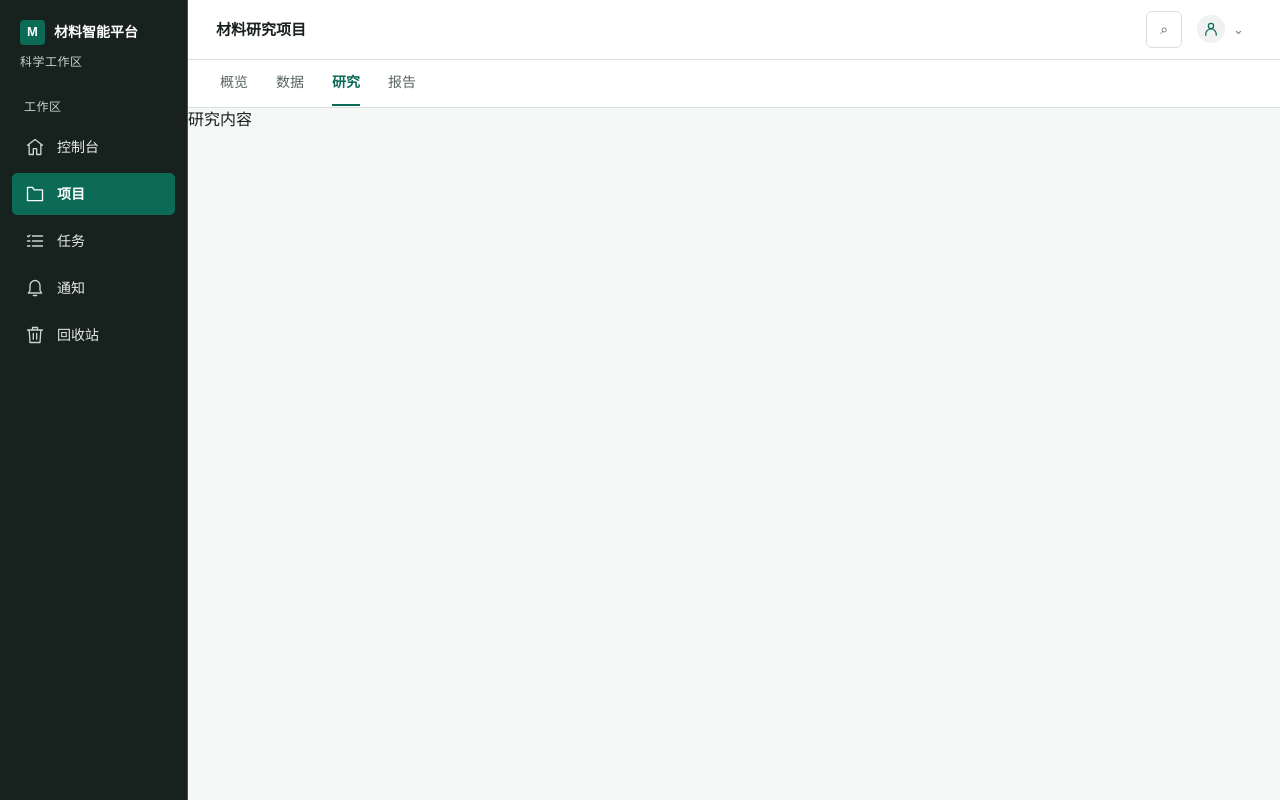
searches across authorized scientific work after the query changes
Click the button named "搜索科学工作": (1164, 29) [1146, 11, 1182, 48]
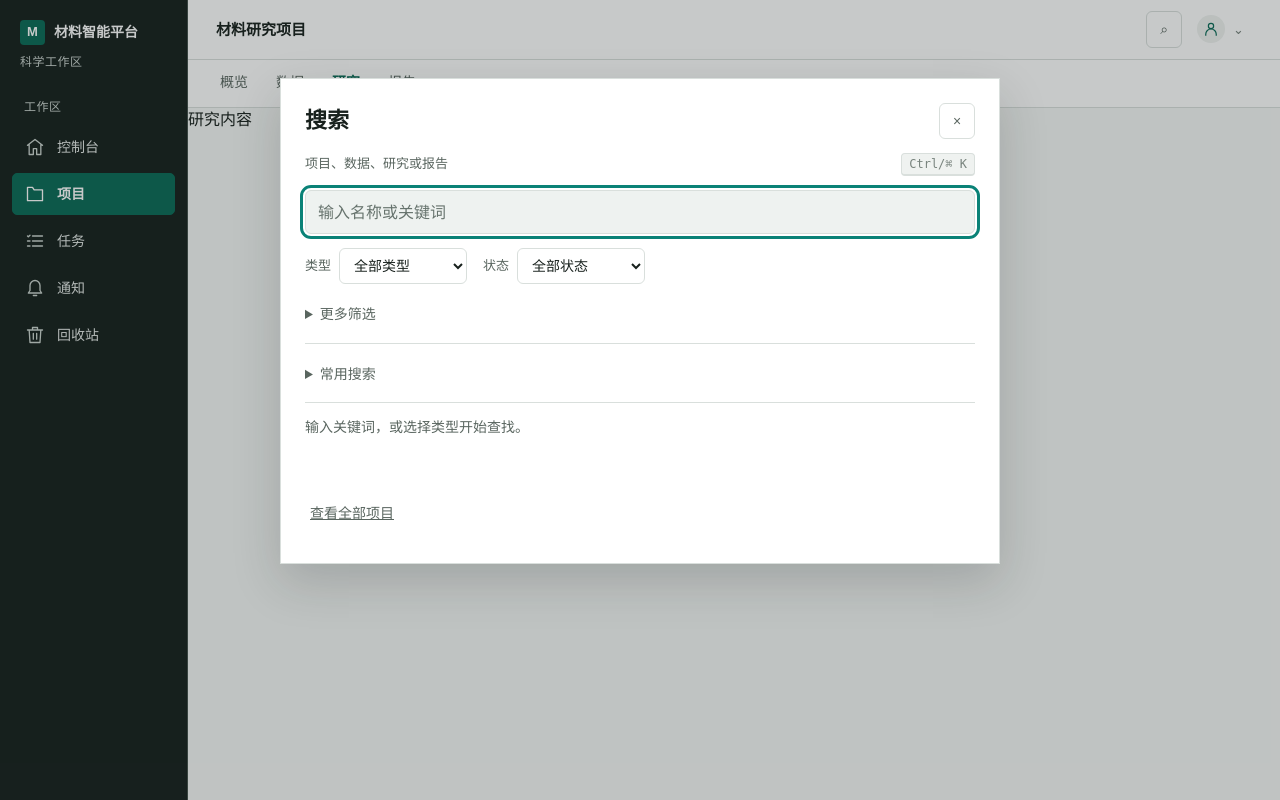
In the field labelled "项目、数据、研究或报告": (640, 212) [305, 190, 975, 234], type "band"
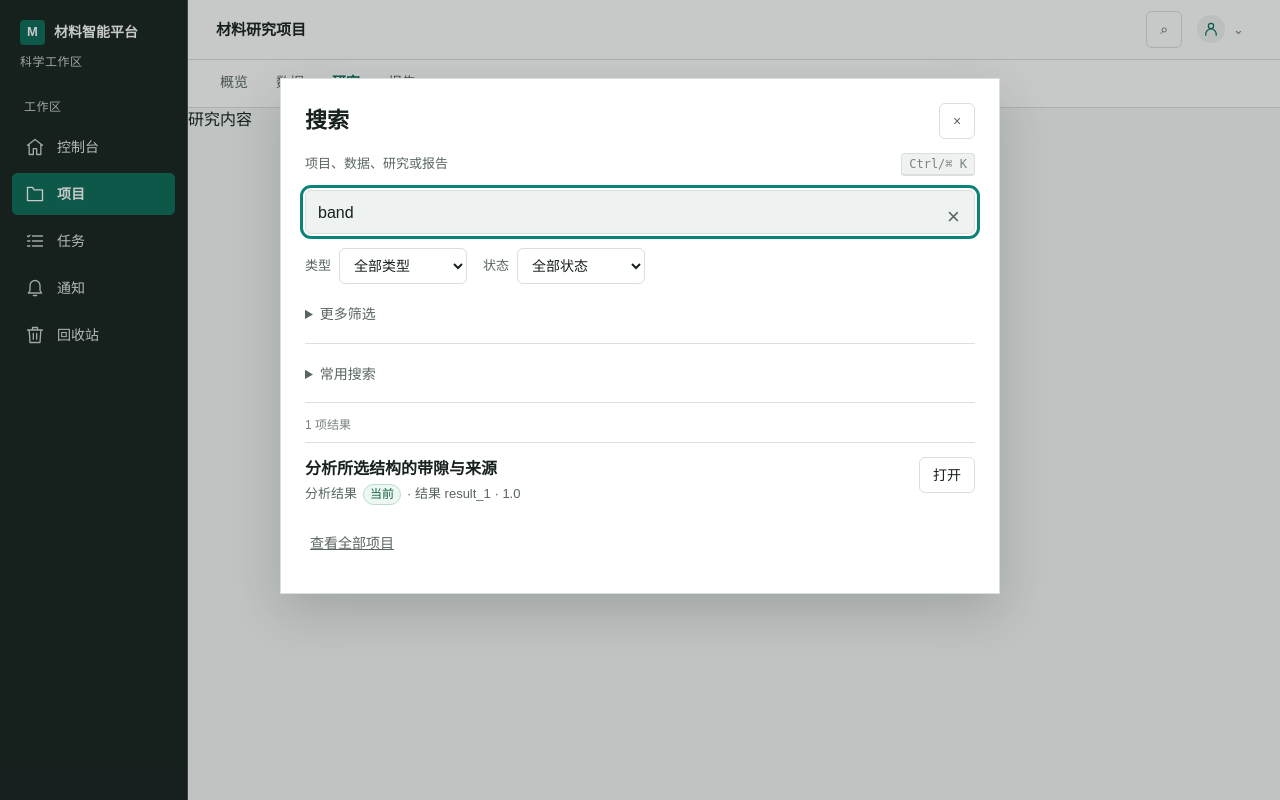
Check: the text "分析所选结构的带隙与来源" is shown, box [305, 457, 520, 480]
Check: the text "分析结果 · 结果 result_1 · 1.0" is shown, box [305, 484, 520, 505]
Check: the text "当前" is shown, box [363, 484, 401, 505]
